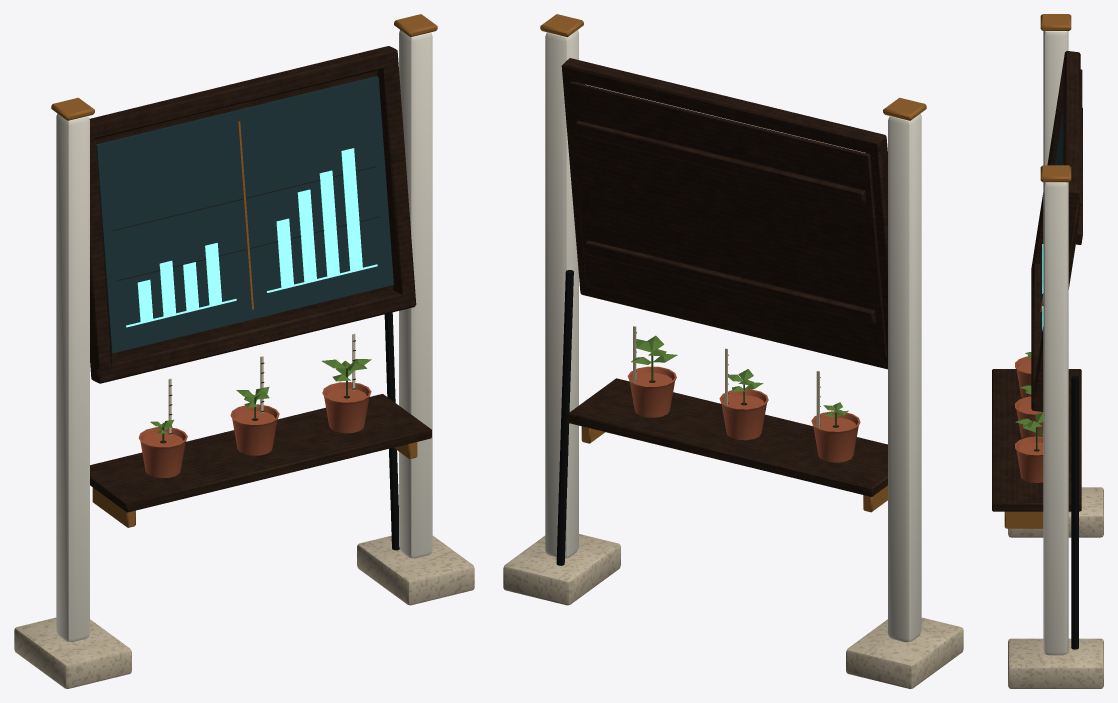
Rendered from conservatory-measurement-panel.lod0.glb.
3 renders of one model, left to right at view 1: azimuth 30°, elevation 25°; view 2: azimuth 150°, elevation 25°; view 3: azimuth 270°, elevation 25°, orthographic. The views are drawn at different scales.
Visible parts, largest first — view 1: conservatory_measurement_panel_panel_slot, conservatory_measurement_panel_Timber • oiled walnut, conservatory_measurement_panel_Ceramic • warm ivory, conservatory_measurement_panel_Trim • places palette, conservatory_measurement_panel_Stone • warm limestone, conservatory_measurement_panel_Display • jade phosphor; view 2: conservatory_measurement_panel_Timber • oiled walnut, conservatory_measurement_panel_Ceramic • warm ivory, conservatory_measurement_panel_Trim • places palette, conservatory_measurement_panel_Stone • warm limestone; view 3: conservatory_measurement_panel_Ceramic • warm ivory, conservatory_measurement_panel_Timber • oiled walnut, conservatory_measurement_panel_Trim • places palette, conservatory_measurement_panel_Stone • warm limestone, conservatory_measurement_panel_panel_slot.
Boxes of the visible parts, bbox=[...] form: conservatory_measurement_panel_panel_slot: bbox=[96, 76, 393, 353]; conservatory_measurement_panel_Timber • oiled walnut: bbox=[89, 46, 431, 512]; conservatory_measurement_panel_Ceramic • warm ivory: bbox=[56, 30, 432, 642]; conservatory_measurement_panel_Trim • places palette: bbox=[51, 14, 437, 550]; conservatory_measurement_panel_Stone • warm limestone: bbox=[14, 535, 474, 688]; conservatory_measurement_panel_Display • jade phosphor: bbox=[126, 148, 377, 327]; conservatory_measurement_panel_Timber • oiled walnut: bbox=[561, 58, 887, 496]; conservatory_measurement_panel_Ceramic • warm ivory: bbox=[545, 30, 921, 642]; conservatory_measurement_panel_Trim • places palette: bbox=[540, 14, 926, 565]; conservatory_measurement_panel_Stone • warm limestone: bbox=[503, 534, 963, 688]; conservatory_measurement_panel_Ceramic • warm ivory: bbox=[1043, 31, 1068, 655]; conservatory_measurement_panel_Timber • oiled walnut: bbox=[992, 51, 1082, 511]; conservatory_measurement_panel_Trim • places palette: bbox=[1004, 14, 1078, 649]; conservatory_measurement_panel_Stone • warm limestone: bbox=[1008, 487, 1103, 688]; conservatory_measurement_panel_panel_slot: bbox=[1040, 111, 1063, 343].
Bounding box in the file's own units: 1.34 × 1.74 × 0.35.
Materials: 6 (3 with a texture image).
